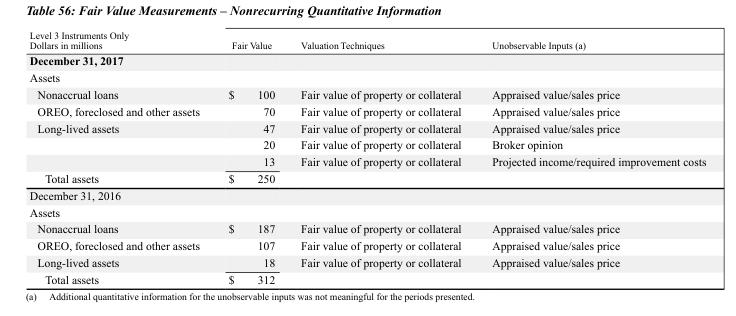table: (28, 29, 705, 285)
table column: (475, 29, 705, 285), (287, 29, 475, 285), (28, 29, 213, 285), (213, 29, 287, 285)
table column header: (28, 29, 705, 51)
table projected row header: (28, 51, 705, 68), (28, 68, 705, 85), (28, 186, 705, 203), (28, 203, 705, 220)
table row: (28, 29, 705, 51), (28, 51, 705, 68), (28, 68, 705, 85), (28, 85, 705, 102), (28, 102, 705, 119), (28, 119, 705, 136), (28, 152, 705, 169), (28, 169, 705, 186), (28, 186, 705, 203), (28, 203, 705, 220), (28, 236, 705, 253), (28, 253, 705, 270), (28, 136, 705, 152), (28, 220, 705, 236), (28, 270, 705, 285)
